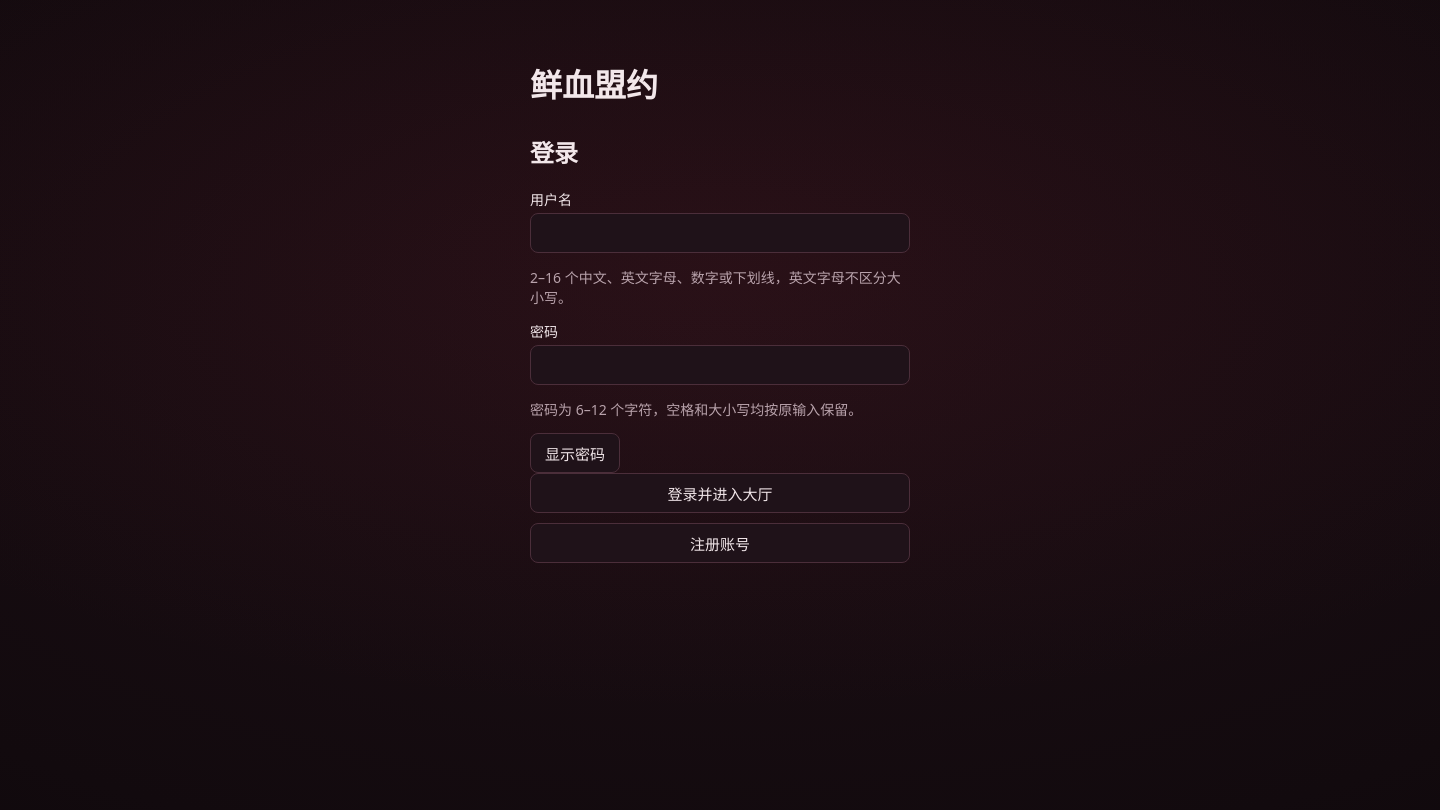
Test: 注册失败给中文反馈，保留输入并可纠正后重试
Click the button "注册账号" at (720,543), box [530, 523, 910, 563]
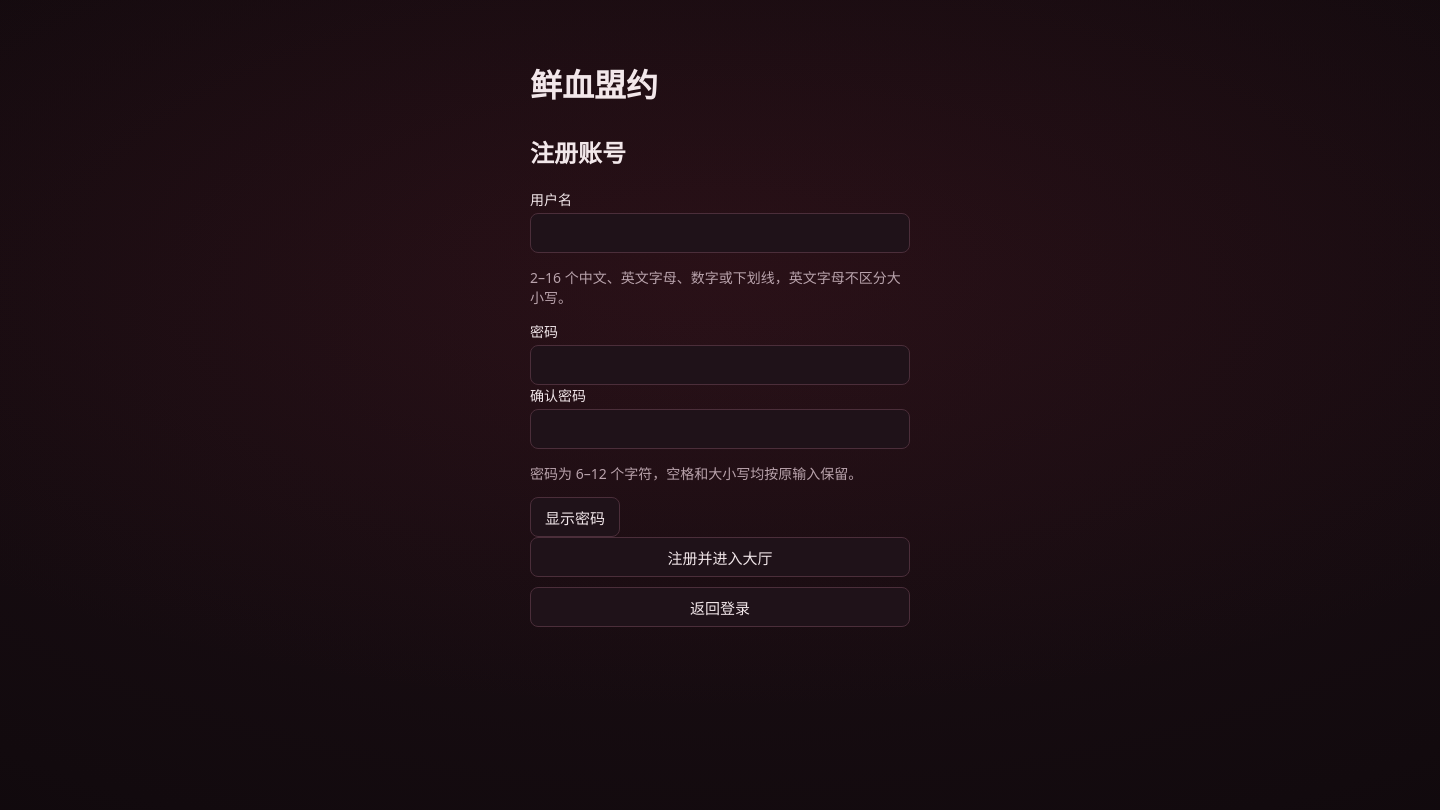
Type "重复名字" into the field labelled "用户名" at (720,233), box [530, 213, 910, 253]
Type "123456" into the password field labelled "密码" at (720,365), box [530, 345, 910, 385]
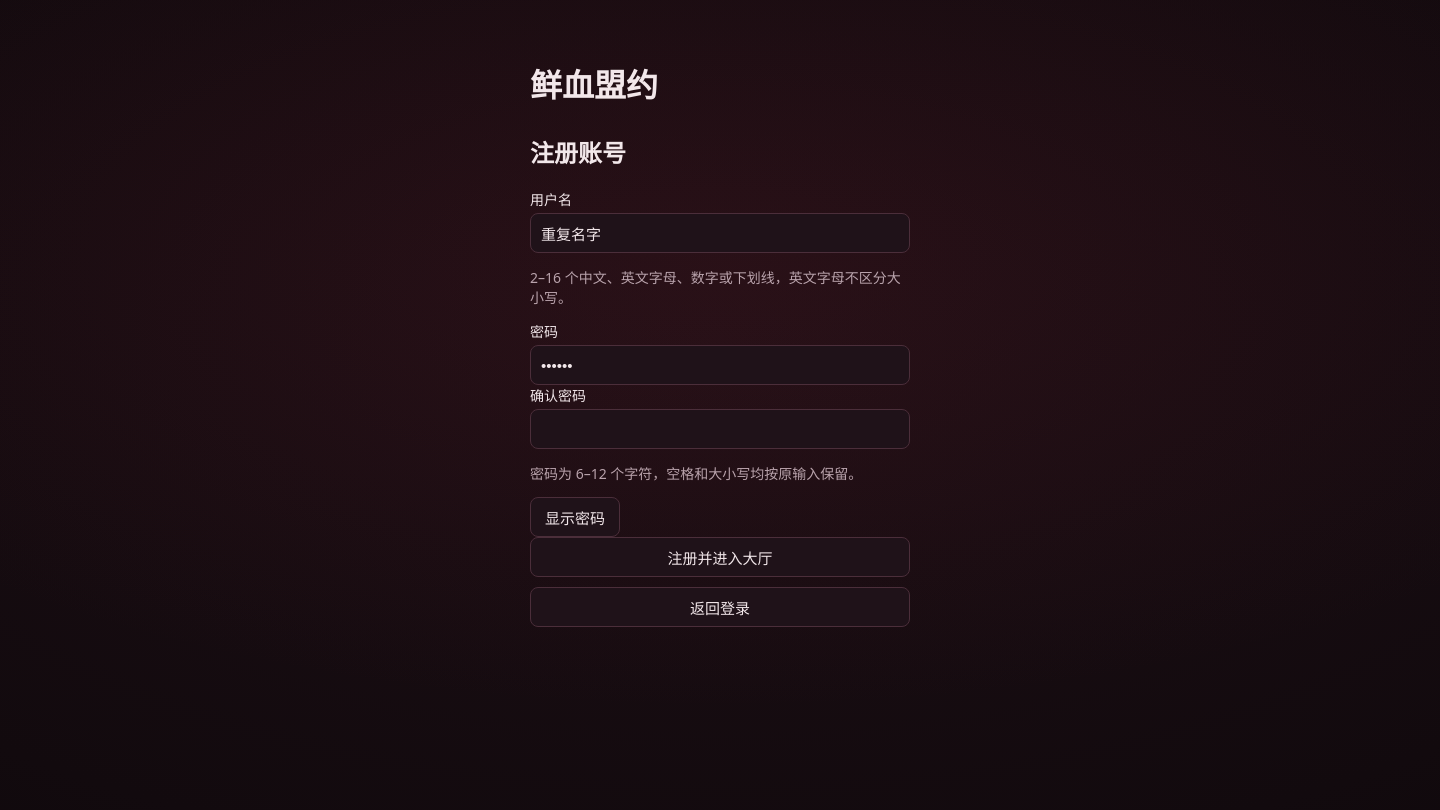
Type "123456" into the password field labelled "确认密码" at (720,429), box [530, 409, 910, 449]
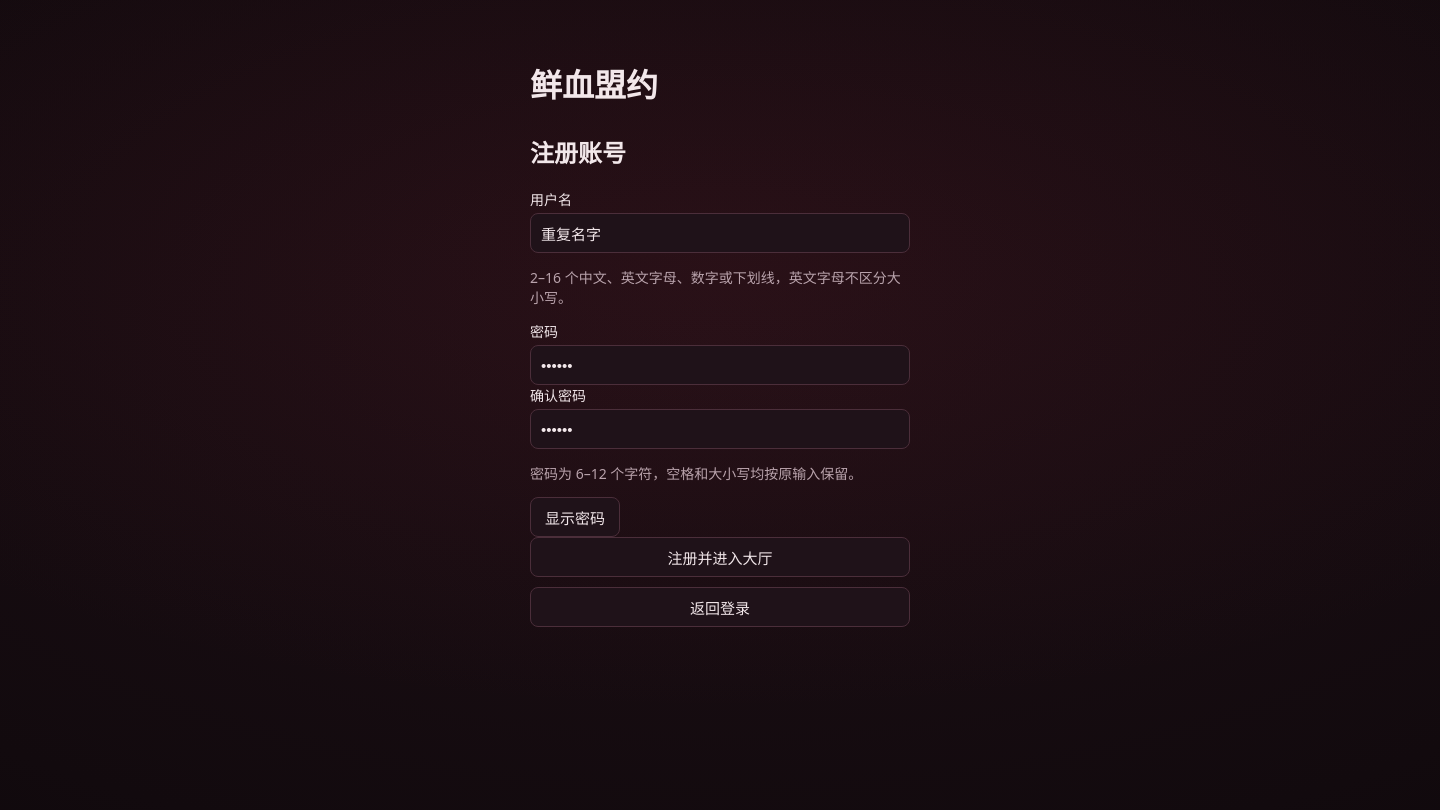
Click the button "注册并进入大厅" at (720,557), box [530, 537, 910, 577]
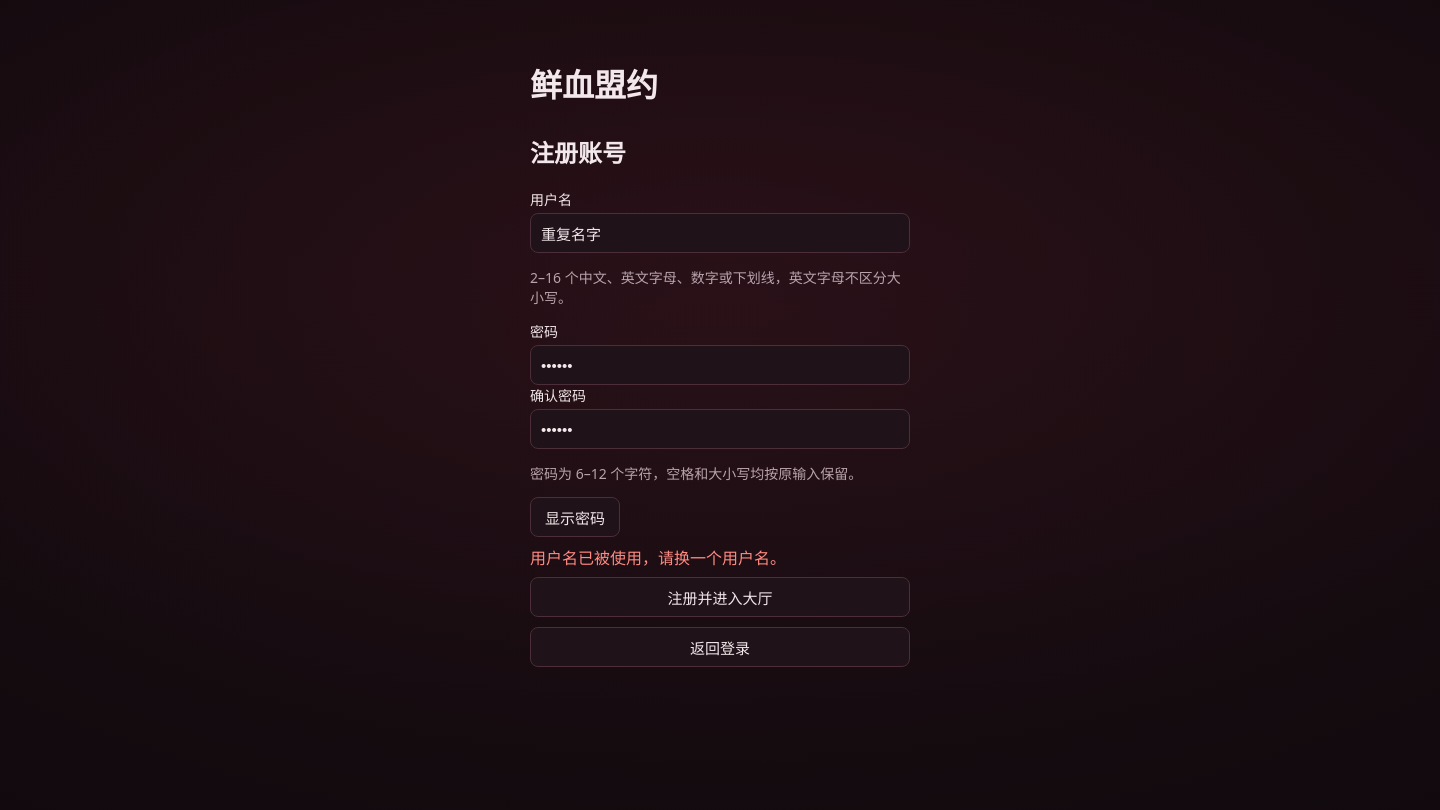
Result: the message shows "用户名已被使用" at [530, 547, 786, 569]
Replace the text in the field labelled "用户名" with "新的名字" at (720,233), box [530, 213, 910, 253]
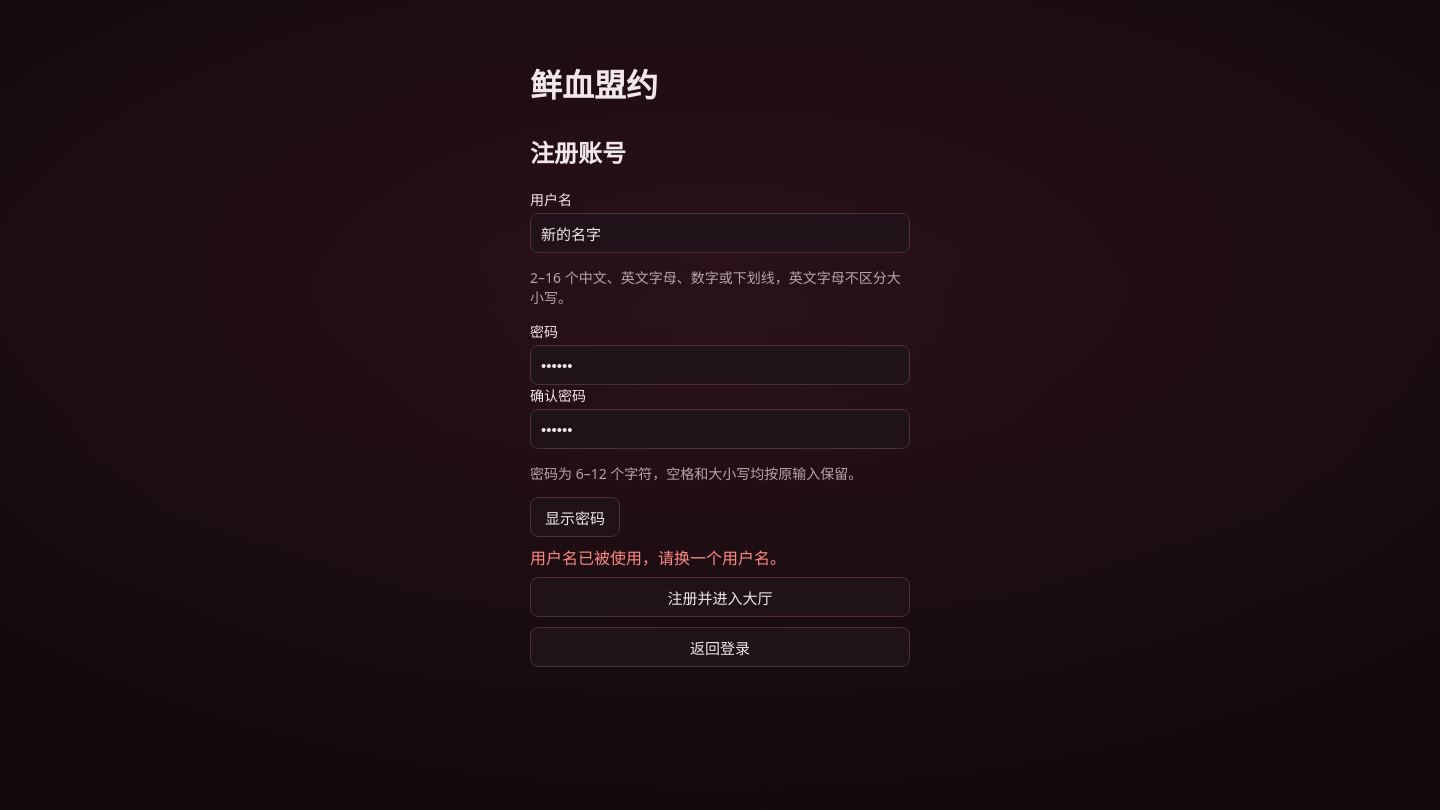
Click the button "注册并进入大厅" at (720,597), box [530, 577, 910, 617]
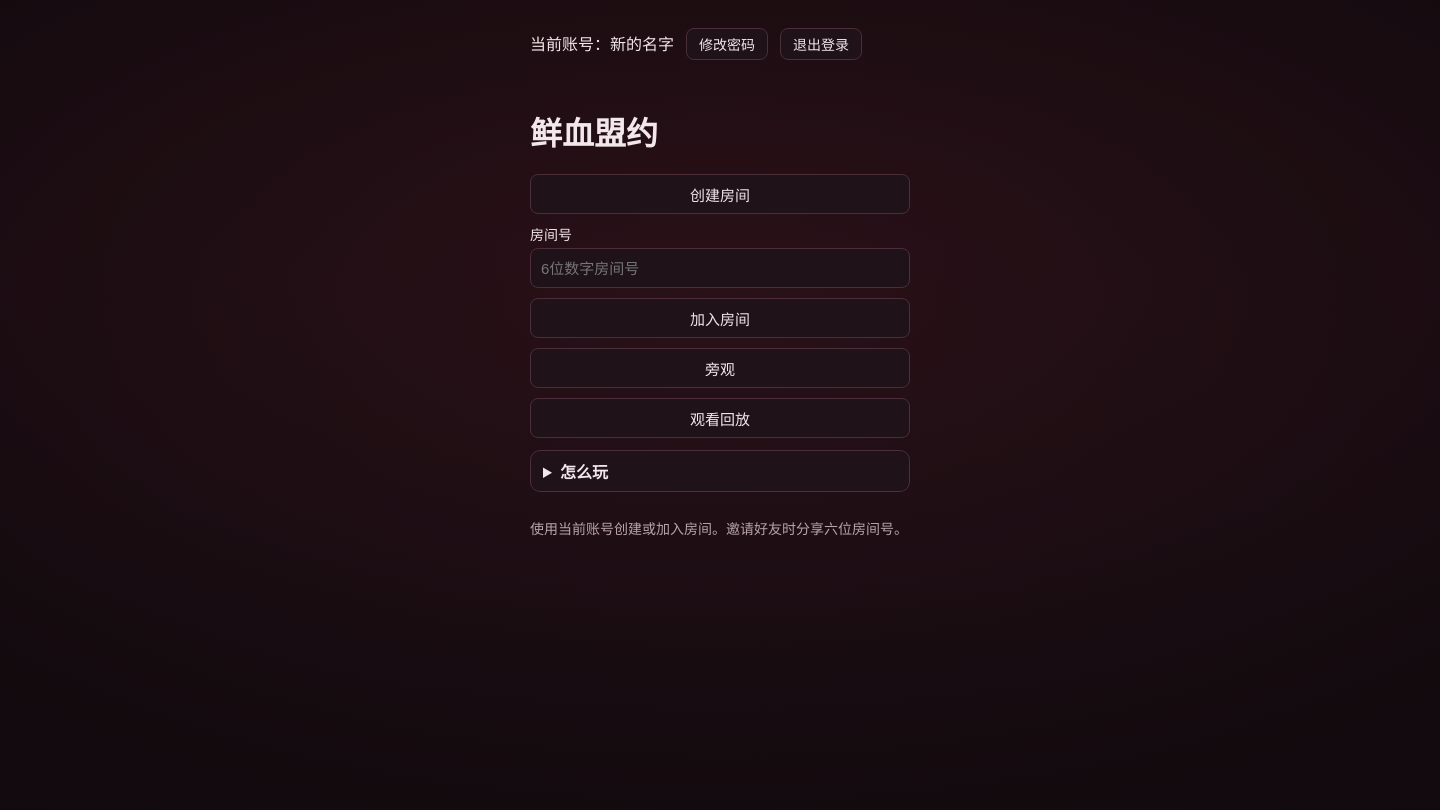
Result: the text "当前账号：新的名字" is shown at [530, 28, 910, 60]
